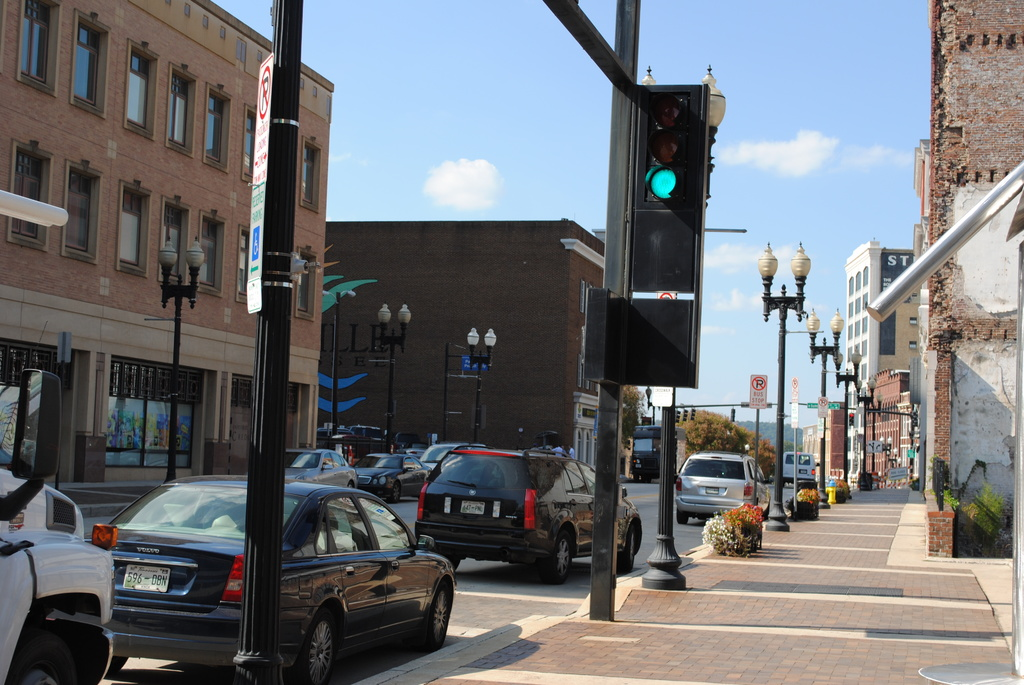green_light: (642, 91, 690, 211)
